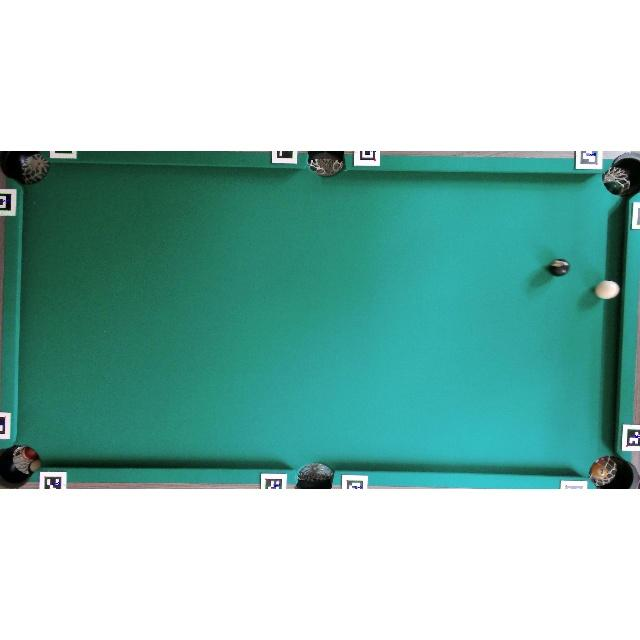cue ball: (593, 278, 622, 300)
other: (547, 258, 571, 276)
